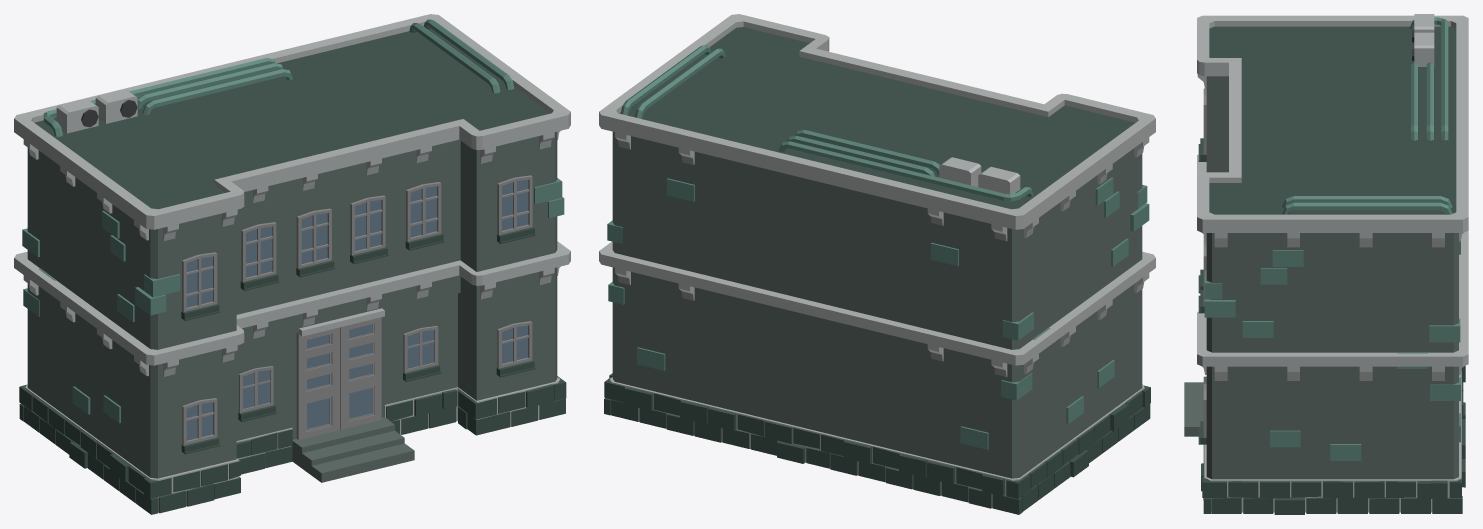
File: quaternius-buildings-pack-3-2-story-wide-mat.glb
3 views of the same model, side by side, from view 1: azimuth 30°, elevation 25°; view 2: azimuth 150°, elevation 25°; view 3: azimuth 270°, elevation 25° (orthographic).
Visible parts, largest first — view 1: 2Story_Wide_Mat; view 2: 2Story_Wide_Mat; view 3: 2Story_Wide_Mat.
Boxes of the visible parts, x1,y1,x2,y2 form: 2Story_Wide_Mat: [14, 14, 570, 514]; 2Story_Wide_Mat: [599, 14, 1155, 514]; 2Story_Wide_Mat: [1184, 14, 1468, 514].
Bounding box in the file's own units: 3.83 × 2.75 × 2.26.
1 material, 1 textured.
